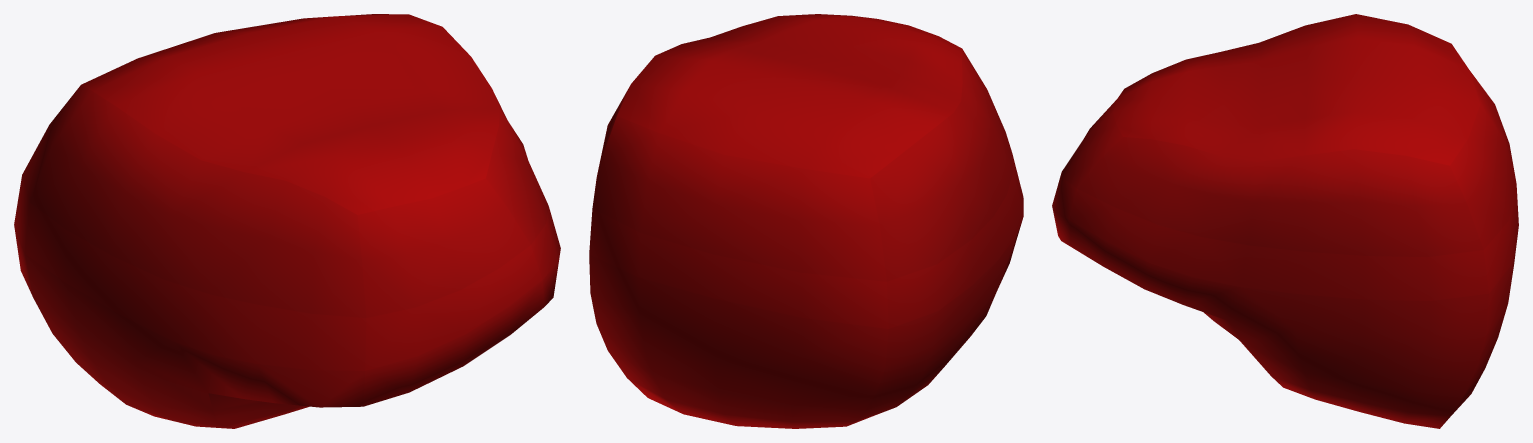
Rendered from geology-pebbles-sandstonepebble_v4.fbx.
3 renders of one model, left to right at view 1: azimuth 30°, elevation 25°; view 2: azimuth 150°, elevation 25°; view 3: azimuth 270°, elevation 25°, orthographic. The views are drawn at different scales.
Visible parts, largest first — view 1: SandstonePebble_v4; view 2: SandstonePebble_v4; view 3: SandstonePebble_v4.
Boxes of the visible parts, left/top/right/bottom form: SandstonePebble_v4: left=14, top=14, right=560, bottom=428; SandstonePebble_v4: left=589, top=14, right=1023, bottom=428; SandstonePebble_v4: left=1052, top=14, right=1518, bottom=428.
Size of the model in its own units: 9.02 by 7.73 by 10.58.
